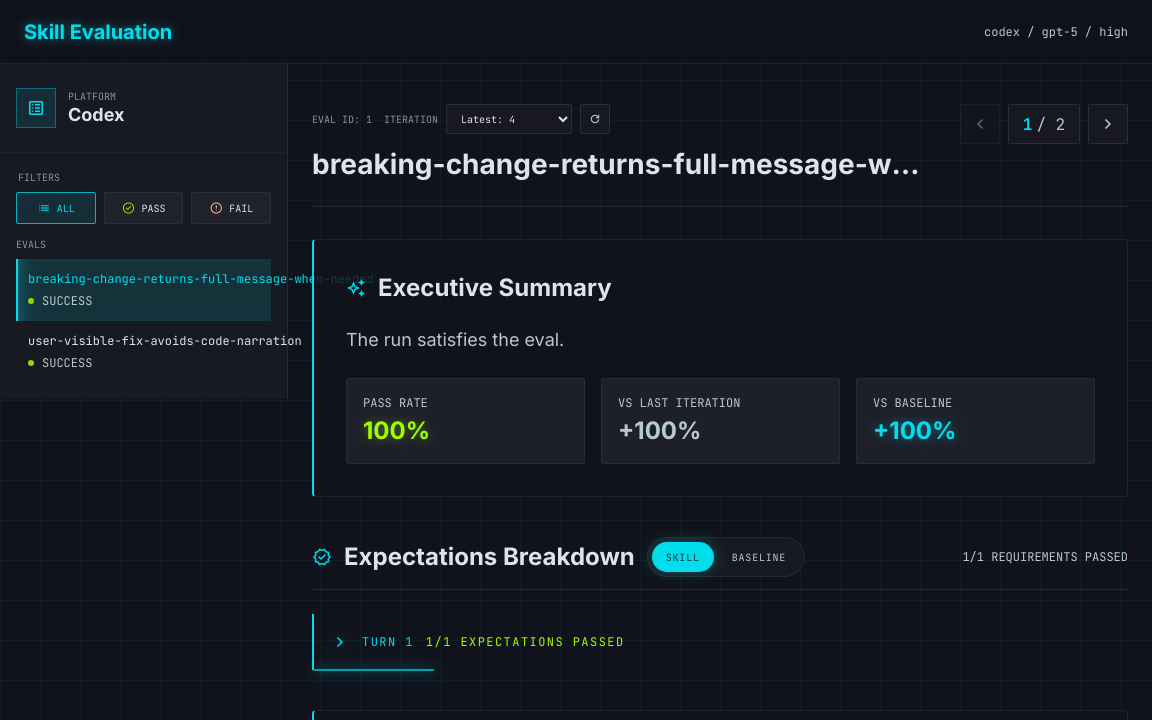
Test case: moves through runs with the prototype pager controls
Click the button named "Next eval" at (1108, 124), box [1088,104,1128,144]
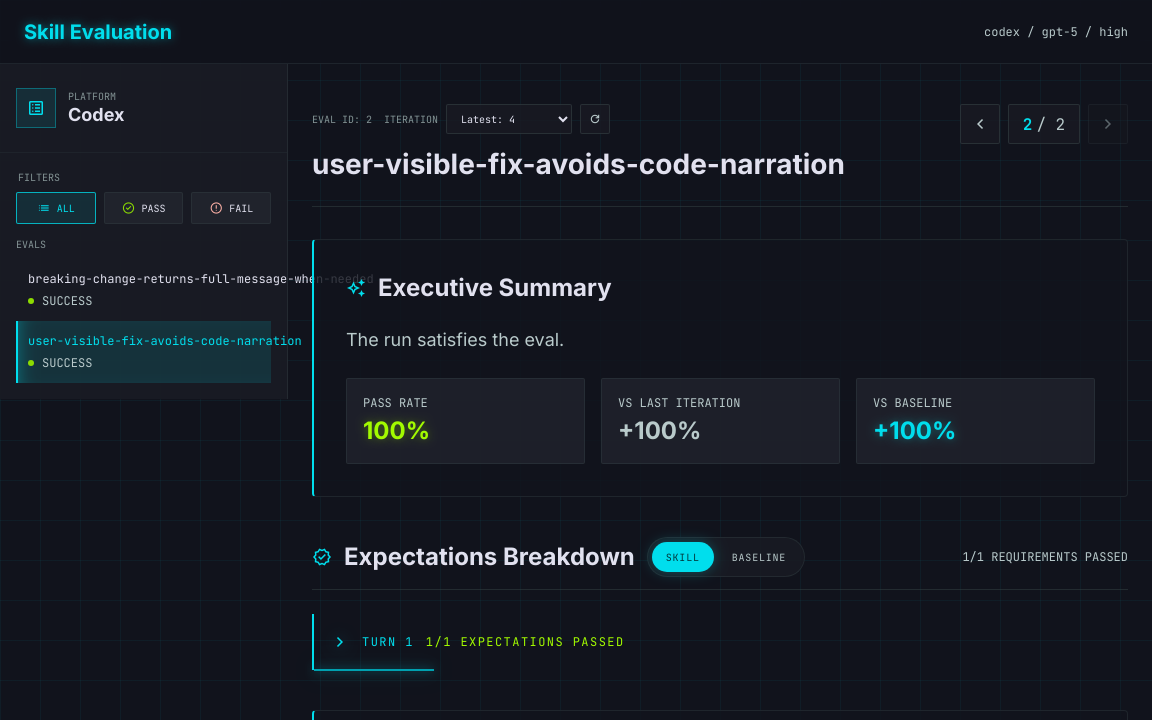
Expected: the heading "user-visible-fix-avoids-code-narration" is shown, [312,146,845,182]
Click the button named "Previous eval" at (980, 124), box [960,104,1000,144]
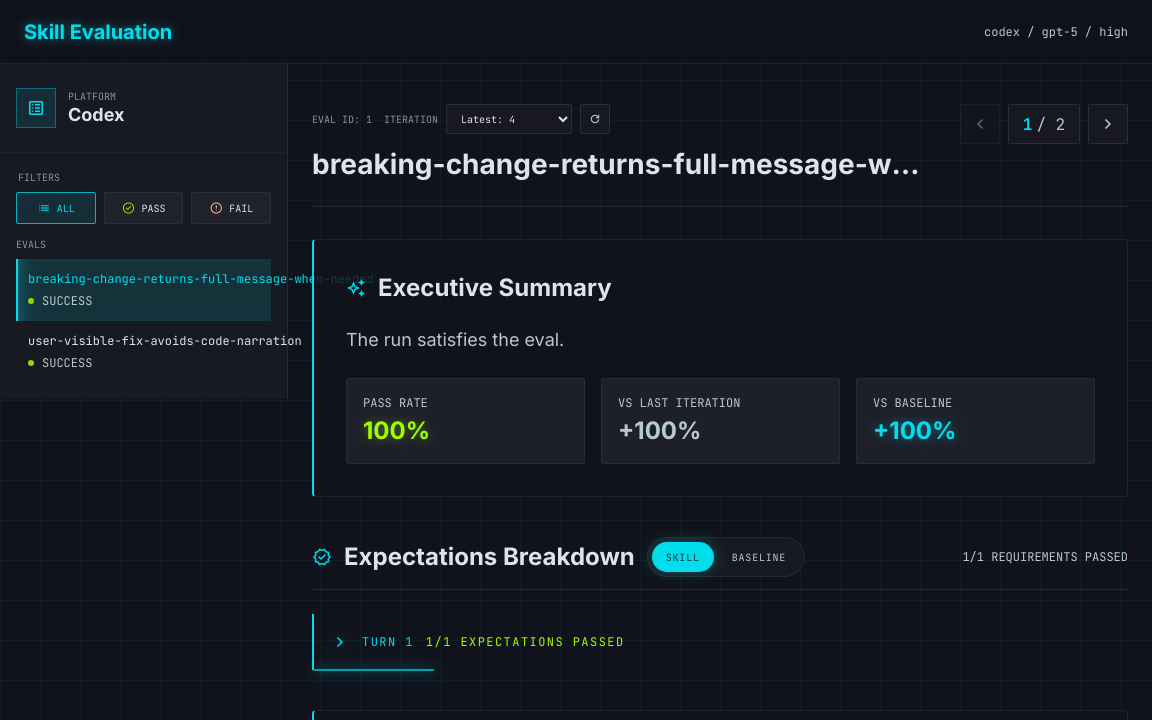
Click the button named "Next eval" at (1108, 124), box [1088,104,1128,144]
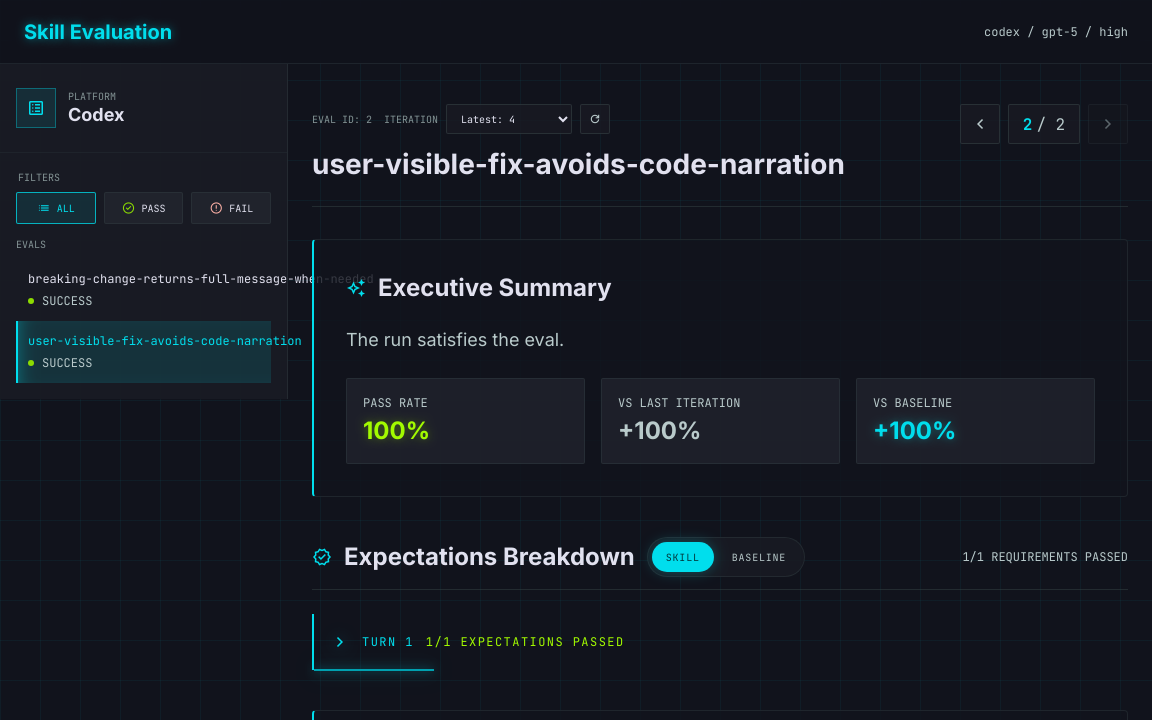
Click the button "breaking-change-returns-full-message-when-needed success" at (144, 290), box [16,259,271,321]
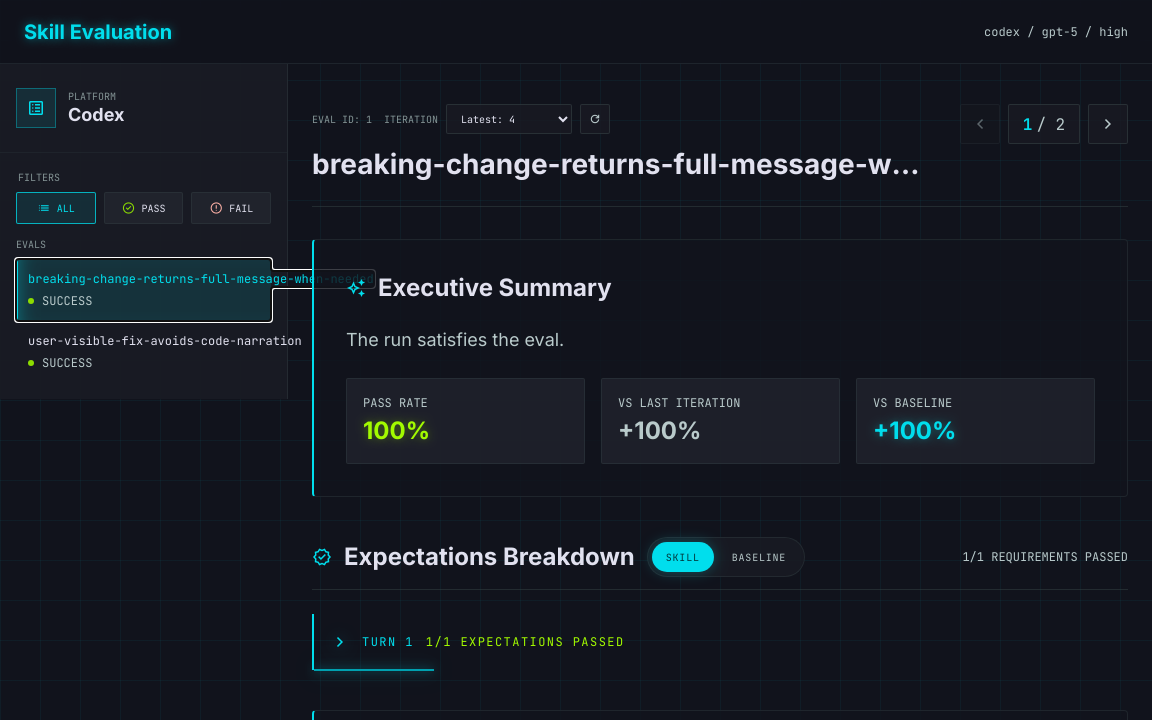
Expected: the heading "breaking-change-returns-full-message-when-needed" is shown, [312,146,936,182]
